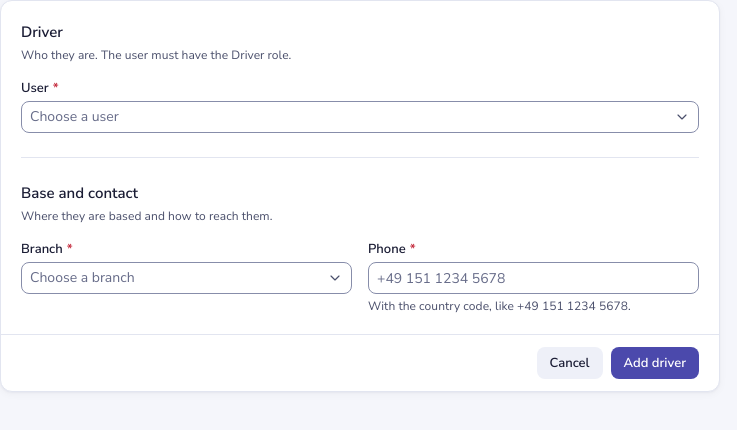
Test: DriverForm › adding a driver › refuses a phone without the country code
This screenshot has width=737, height=430.
Expected: the dropdown labelled "Choose a user" is shown, [21,101,699,133]
Type "0151 1234567" into the field labelled "Phone*" at point(534, 278), box [368,262,699,294]
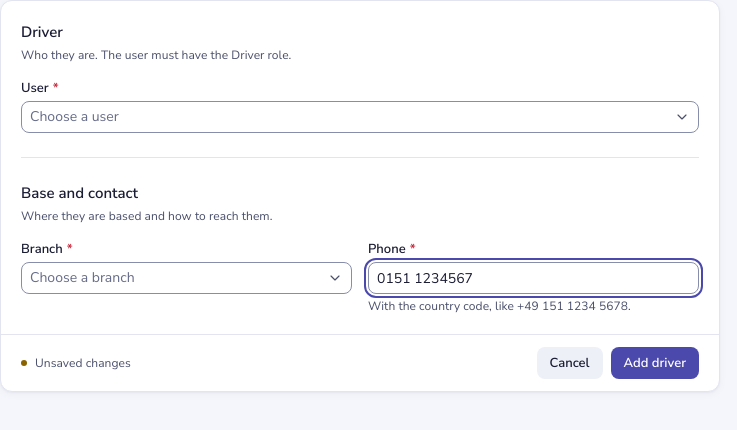
Click the button "Add driver" at point(655, 363), box [610,347,699,379]
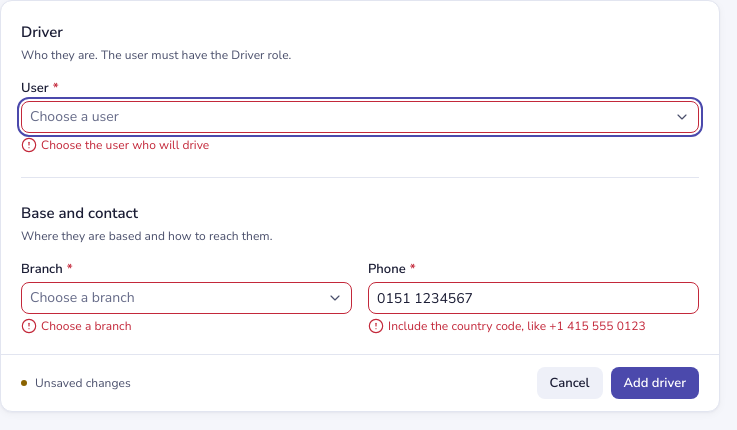
Expected: the text "Include the country code, like +1 415 555 0123" is shown, [368,318,646,334]
